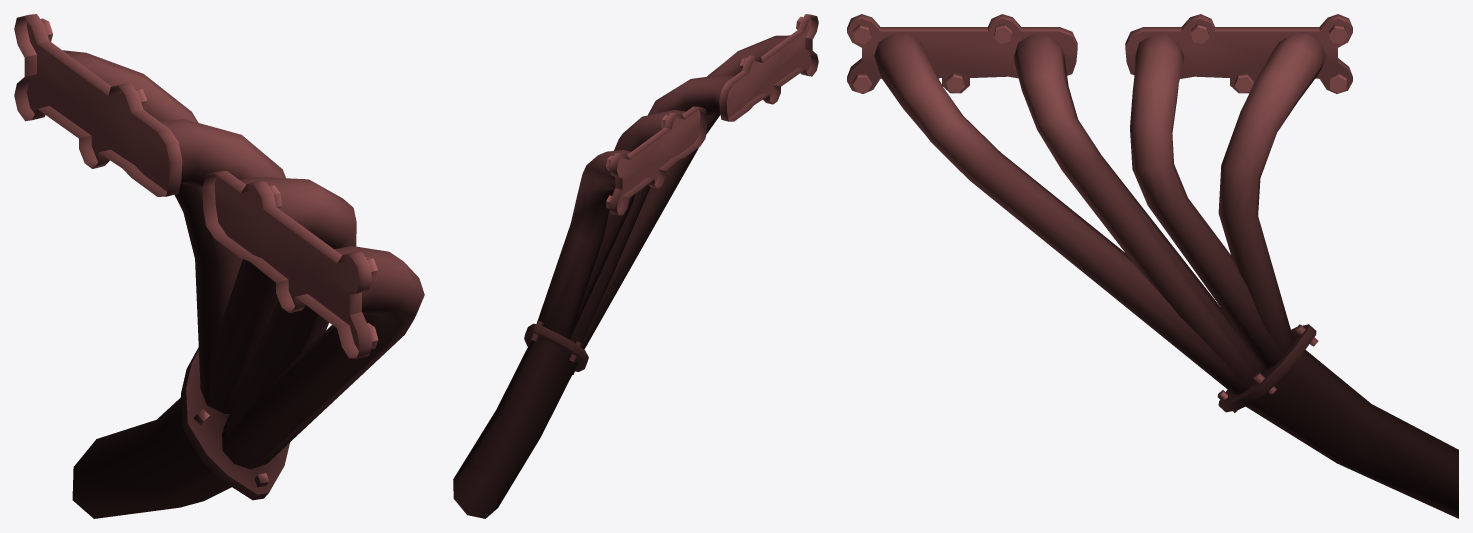
The model's file is BP_Exhaust1.fbx.
3 views of the same model, side by side, from view 1: azimuth 30°, elevation 25°; view 2: azimuth 150°, elevation 25°; view 3: azimuth 270°, elevation 25° (orthographic). The views are drawn at different scales.
Parts seen in each view (by area): view 1: BP_Exhaust1; view 2: BP_Exhaust1; view 3: BP_Exhaust1.
Part boxes in pixels (x1,y1,x2,y2): BP_Exhaust1: [14, 14, 424, 518]; BP_Exhaust1: [453, 14, 818, 518]; BP_Exhaust1: [847, 14, 1458, 518].
Size of the model in its own units: 17.66 by 48.05 by 60.64.
